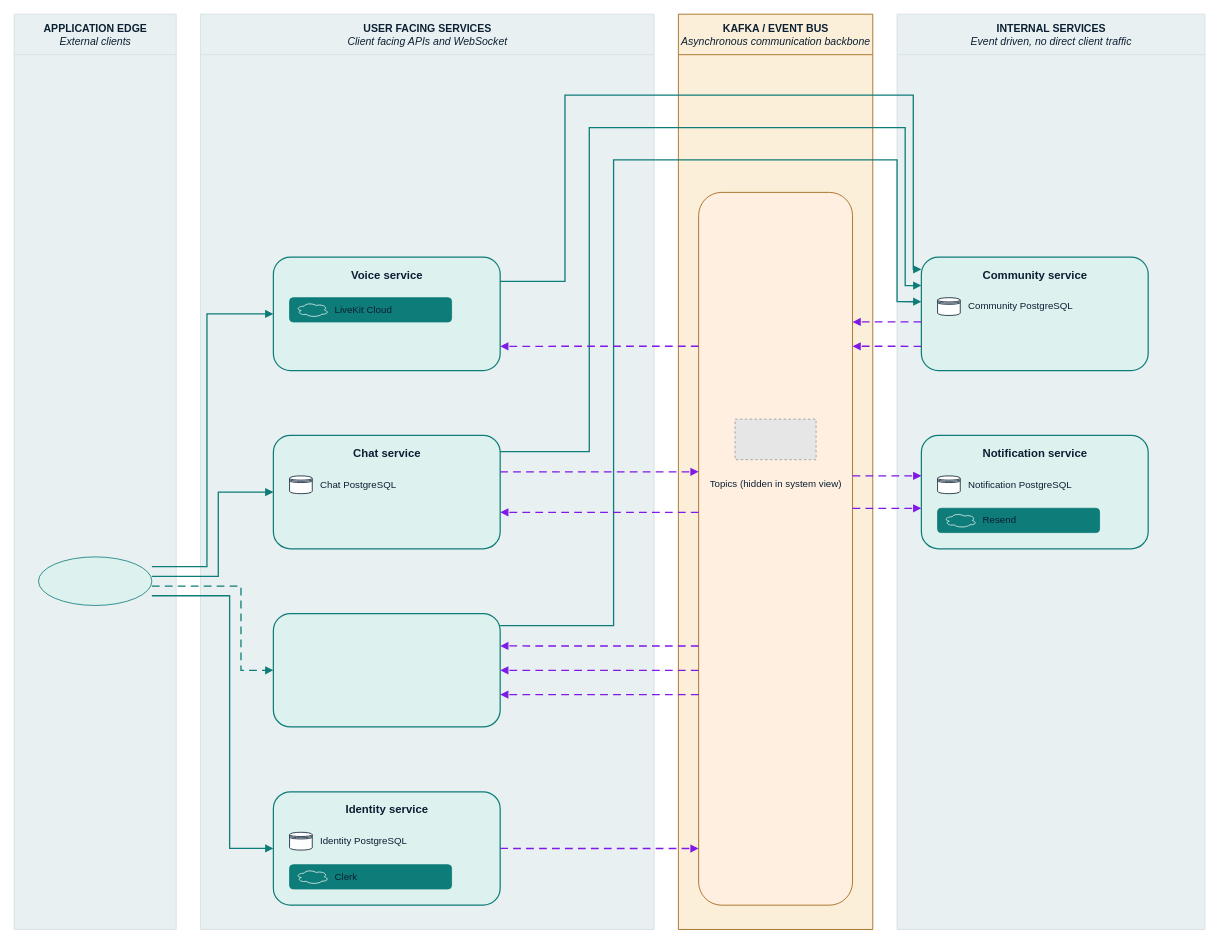
Image size: 1219x944. Some labels were removed from this diagram. Grey dashed boxes stand in for pictures. The centre of each missing label's shape, as x and y in pixels:
"Clients" goes at point 95,580.
"Realtime gateway" goes at point 386,670.
